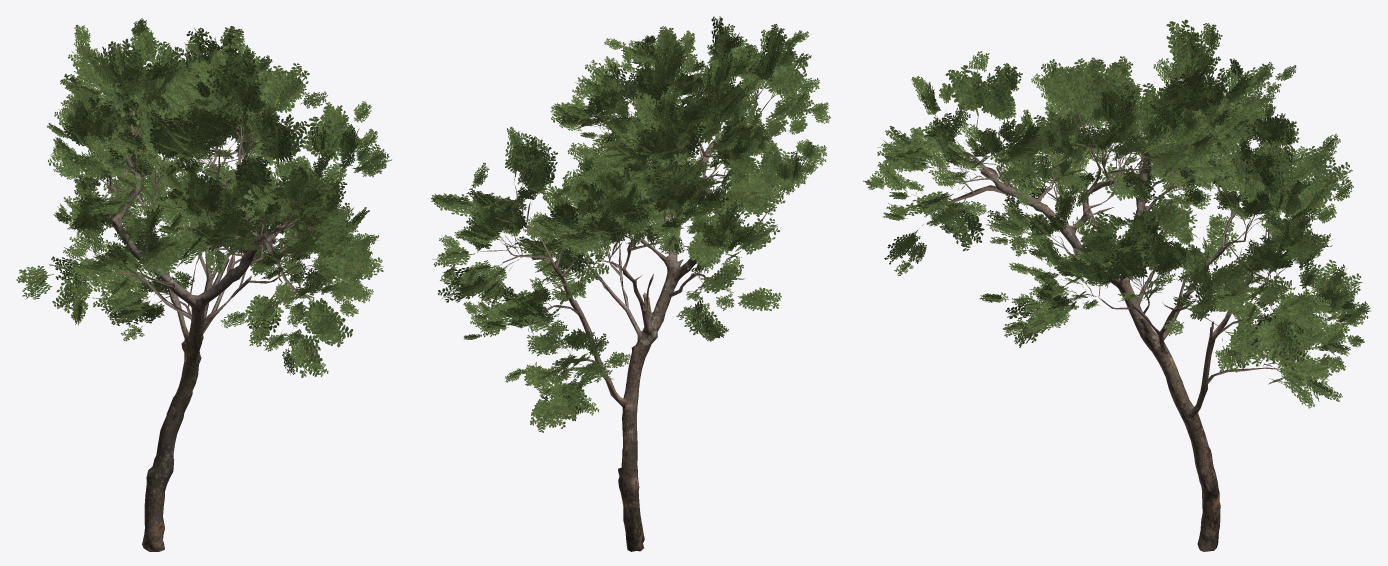
Rendered from street-tree.glb.
The picture shows the model from 3 angles, left to right: view 1: azimuth 30°, elevation 25°; view 2: azimuth 150°, elevation 25°; view 3: azimuth 270°, elevation 25°; orthographic projection. The views are drawn at different scales.
Visible parts, largest first — view 1: Leaf canopy, tree_small_02_trunk.001, tree_small_02_branches; view 2: Leaf canopy, tree_small_02_trunk.001, tree_small_02_branches; view 3: Leaf canopy, tree_small_02_trunk.001, tree_small_02_branches.
Part boxes in pixels (left/top/right/bottom): Leaf canopy: left=16, top=18, right=391, bottom=377; tree_small_02_trunk.001: left=100, top=155, right=297, bottom=551; tree_small_02_branches: left=76, top=72, right=346, bottom=346; Leaf canopy: left=431, top=16, right=830, bottom=432; tree_small_02_trunk.001: left=541, top=120, right=747, bottom=551; tree_small_02_branches: left=477, top=55, right=795, bottom=386; Leaf canopy: left=863, top=19, right=1370, bottom=408; tree_small_02_trunk.001: left=980, top=129, right=1253, bottom=551; tree_small_02_branches: left=914, top=98, right=1333, bottom=384.
Size of the model in its own units: 3.06 by 4.67 by 4.33.
Materials: 3 (3 with a texture image).
